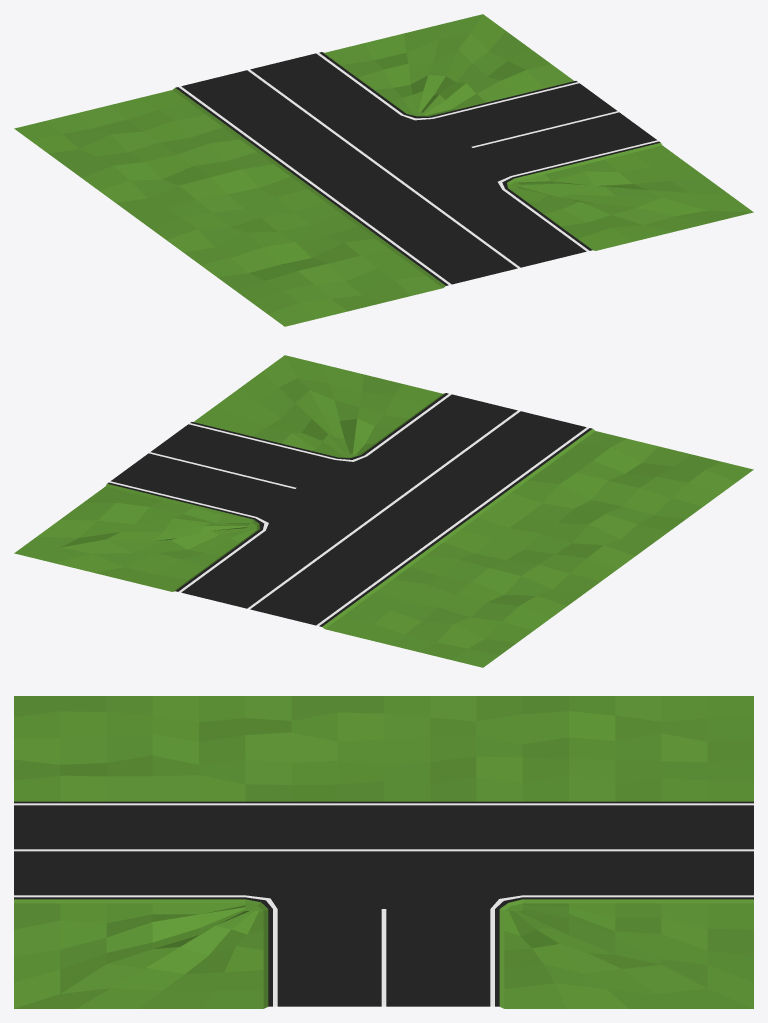
Rendered from street_T_land.fbx.
3 renders of one model, top to bottom at view 1: azimuth 30°, elevation 25°; view 2: azimuth 150°, elevation 25°; view 3: azimuth 270°, elevation 25°, orthographic. The views are drawn at different scales.
Visible parts, largest first — view 1: street_T_land; view 2: street_T_land; view 3: street_T_land.
Boxes of the visible parts, x1,y1,x2,y2 form: street_T_land: [14, 14, 753, 326]; street_T_land: [14, 355, 753, 667]; street_T_land: [14, 696, 753, 1008].
Bounding box in the file's own units: 3200 × 58.78 × 3200.
